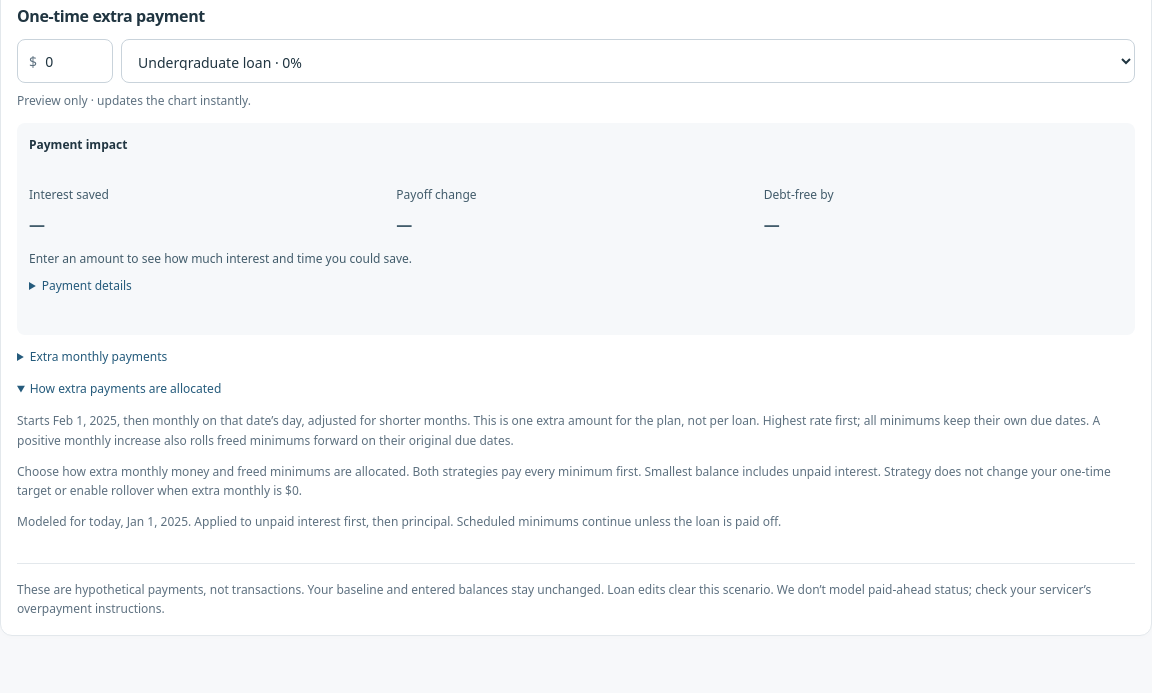
one-time payment simulator › clears the scenario and returns keyboard focus to the amount
Replace the text in the field with id "extra-payment-amount" with "300" at (65, 61), box x1=17 y1=39 x2=113 y2=83
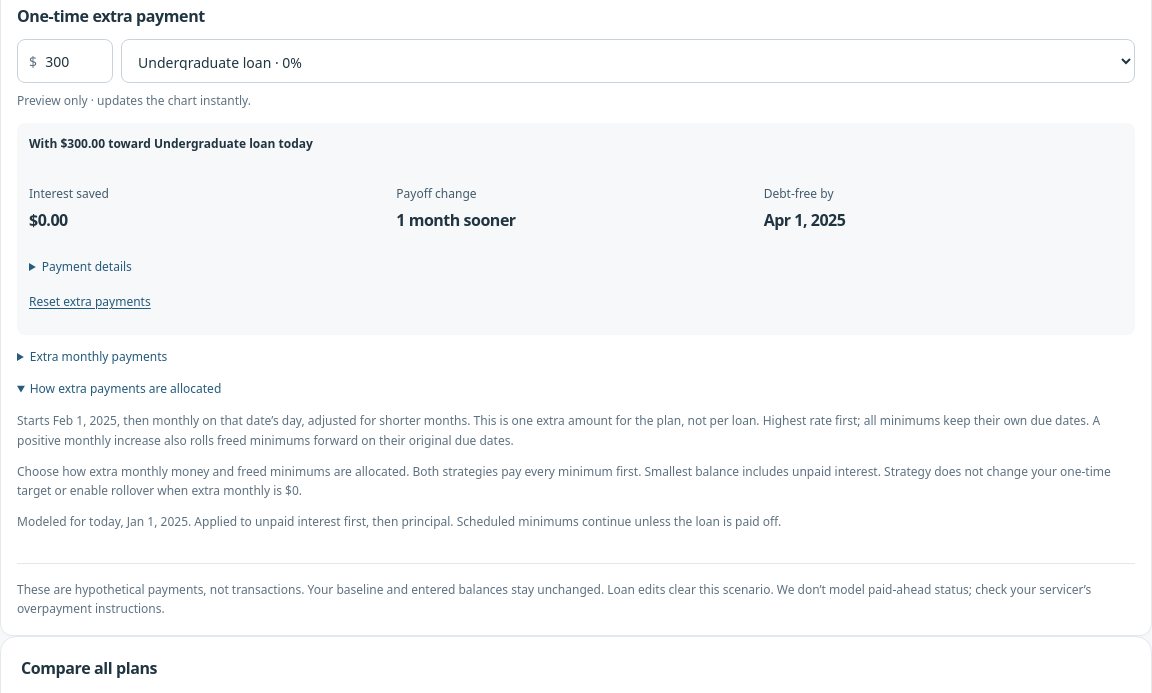
Submit the form
(page scrolled)
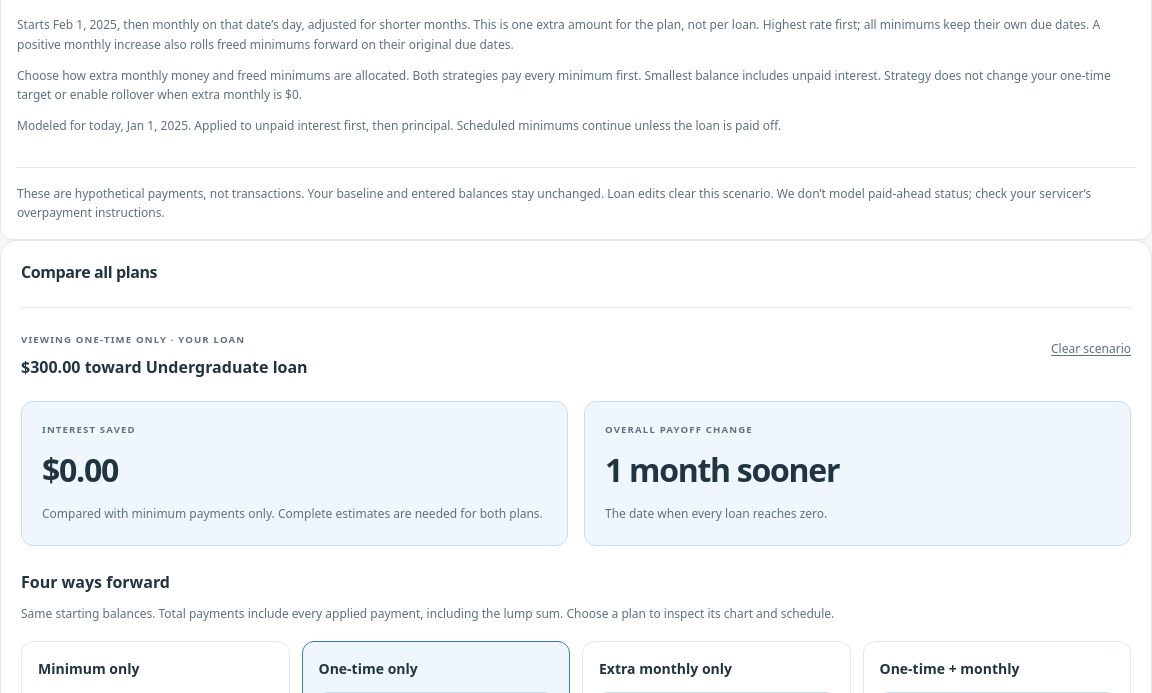
Click the button "Clear scenario".
click(1091, 349)  # box x1=1051 y1=332 x2=1131 y2=365
(page scrolled)
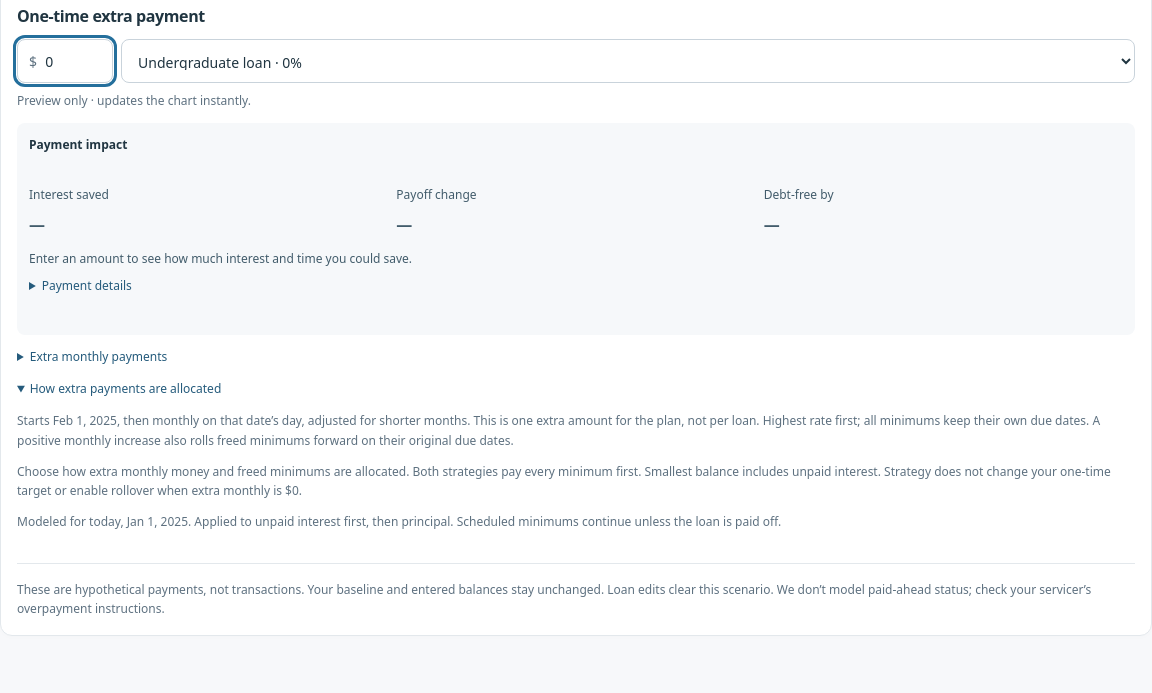
Expected: the field with id "extra-payment-amount" holds "0", x1=17 y1=39 x2=113 y2=83
